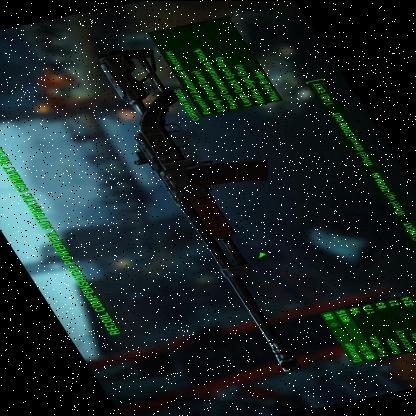rifle: (64, 41, 388, 382)
